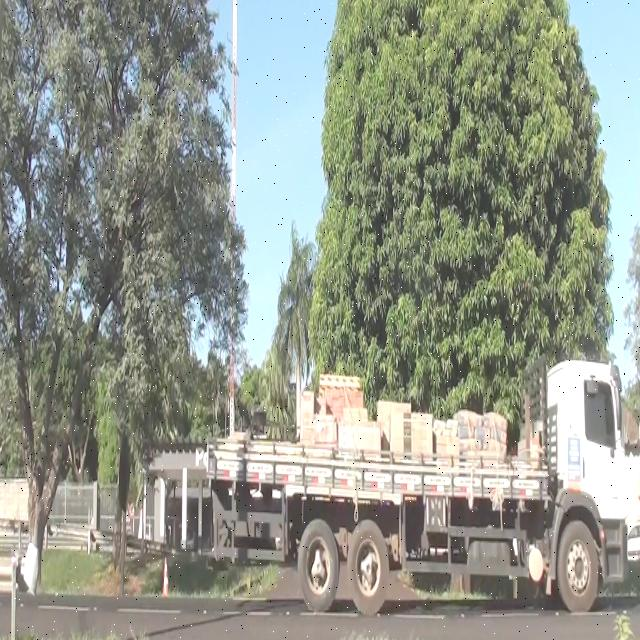-axle: (556, 516, 601, 615), (297, 518, 337, 610), (347, 521, 387, 613)
